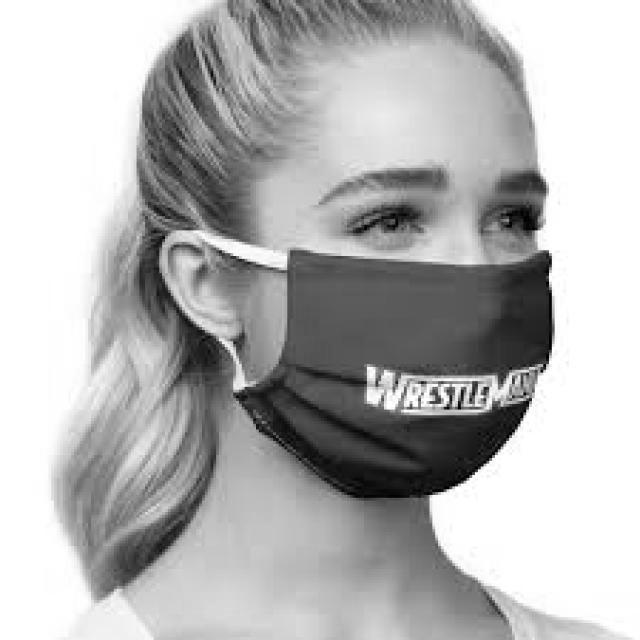fake: (228, 246, 572, 510)
real: (258, 27, 553, 505)
